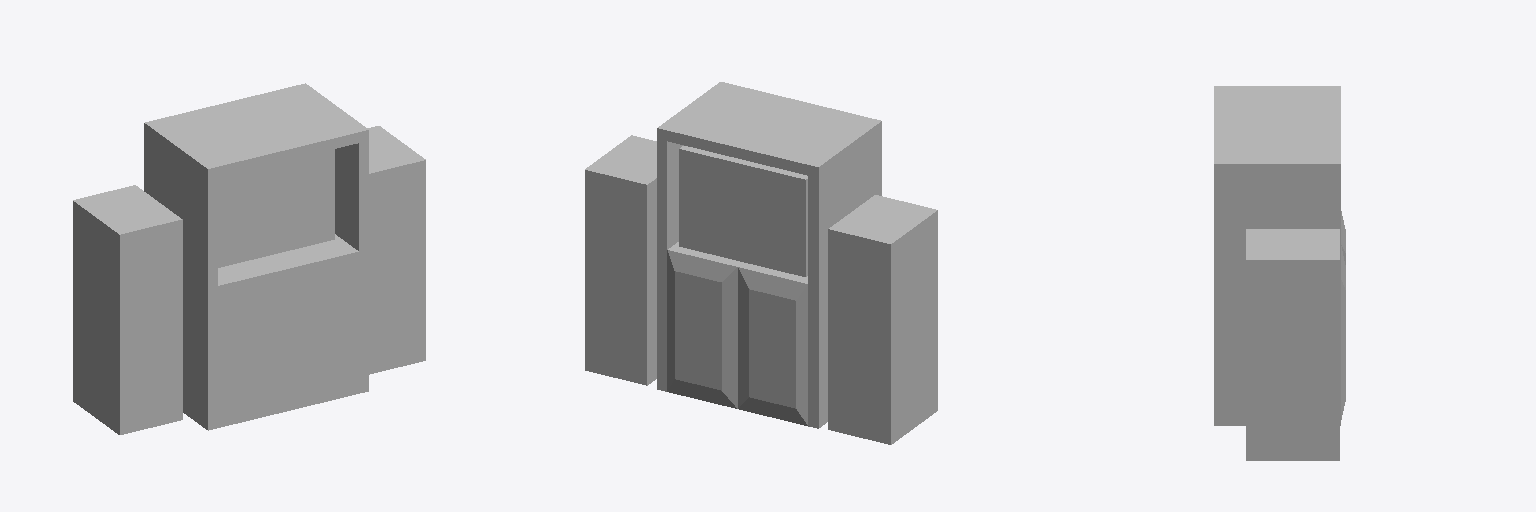
The model's file is tvStand.obj.
3 renders of one model, left to right at view 1: azimuth 30°, elevation 25°; view 2: azimuth 150°, elevation 25°; view 3: azimuth 270°, elevation 25°, orthographic.
Visible parts, largest first — view 1: Cube.004_Cube.005; view 2: Cube.004_Cube.005; view 3: Cube.004_Cube.005.
Part boxes in pixels (x1,y1,x2,y2): Cube.004_Cube.005: (73,83,425,434); Cube.004_Cube.005: (585,82,937,444); Cube.004_Cube.005: (1214,86,1345,460).
Bounding box in the file's own units: 7.86 × 6.4 × 2.93.